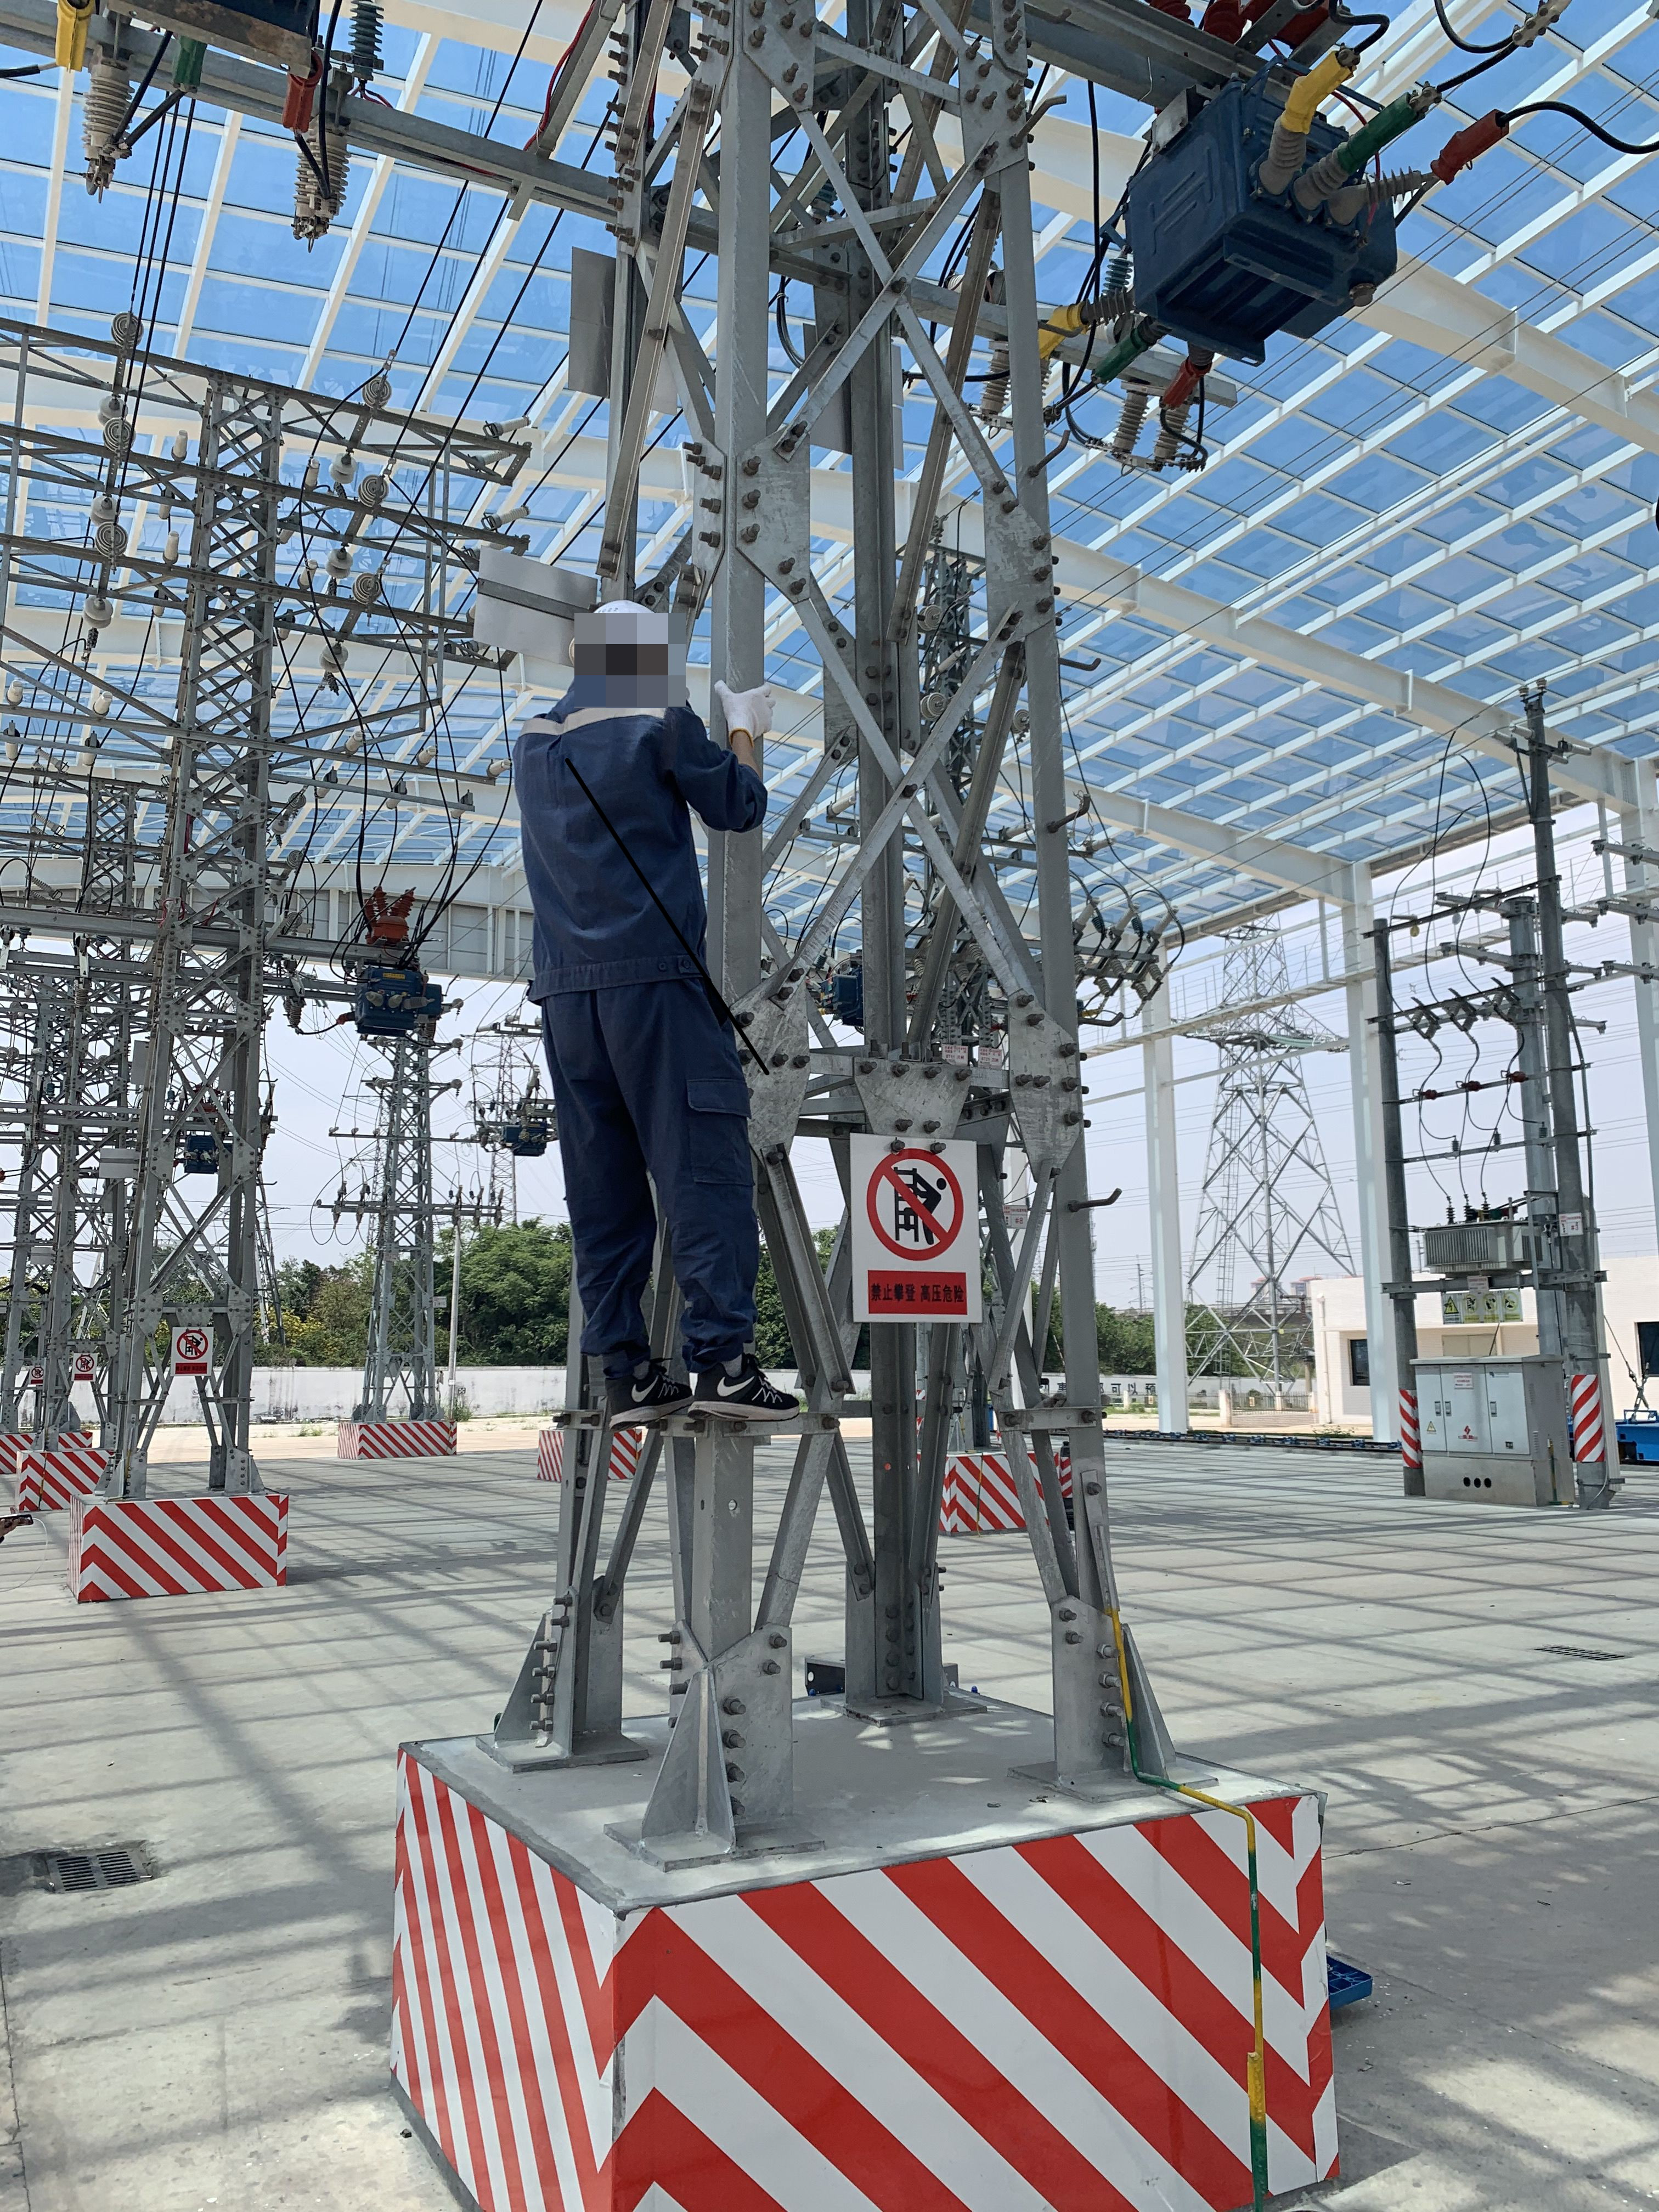downsuit: (534, 1009, 773, 1364)
halt: (571, 597, 684, 692)
inear: (635, 657, 674, 700)
person: (503, 595, 797, 1420)
upsuit: (496, 678, 766, 981)
wglove: (709, 674, 779, 743)
wrongtop: (725, 727, 765, 778)
